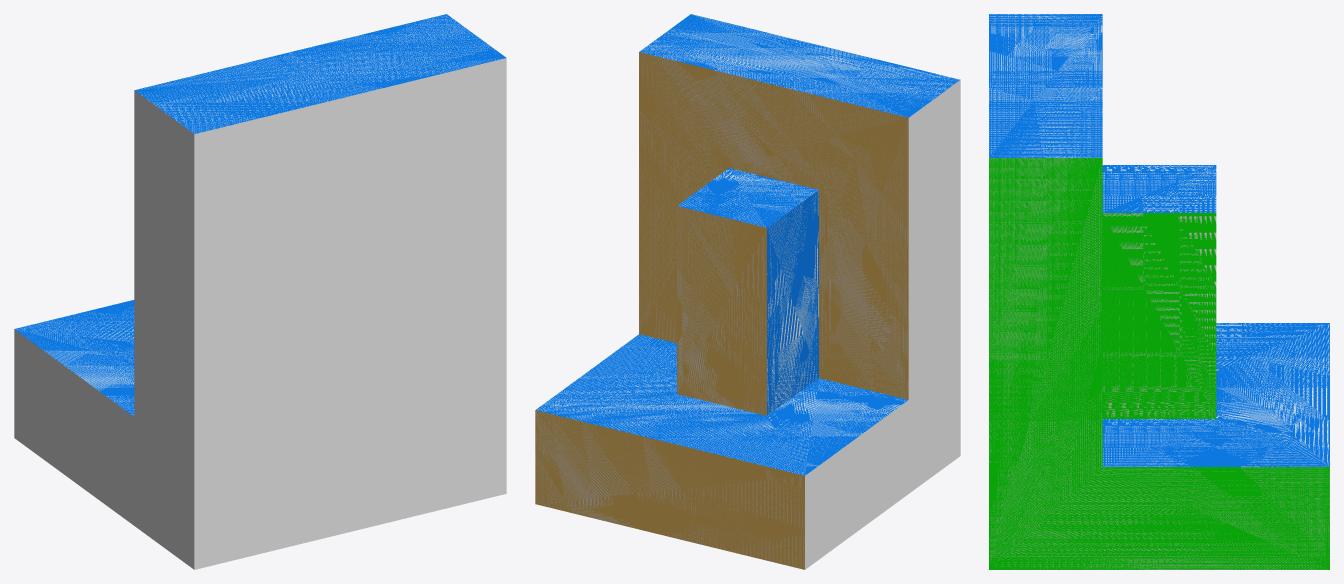
File: Figura5.dae
The picture shows the model from 3 angles, left to right: view 1: azimuth 30°, elevation 25°; view 2: azimuth 150°, elevation 25°; view 3: azimuth 270°, elevation 25°; orthographic projection. The views are drawn at different scales.
Parts seen in each view (by area): view 1: SketchUp (×3); view 2: SketchUp (×6); view 3: SketchUp (×4).
Part boxes in pixels (x1,y1,x2,y2): SketchUp (×3): (14, 14, 506, 569); SketchUp (×6): (535, 14, 960, 569); SketchUp (×4): (989, 14, 1329, 569).
Bounding box in the file's own units: 23.62 × 23.62 × 31.5.
